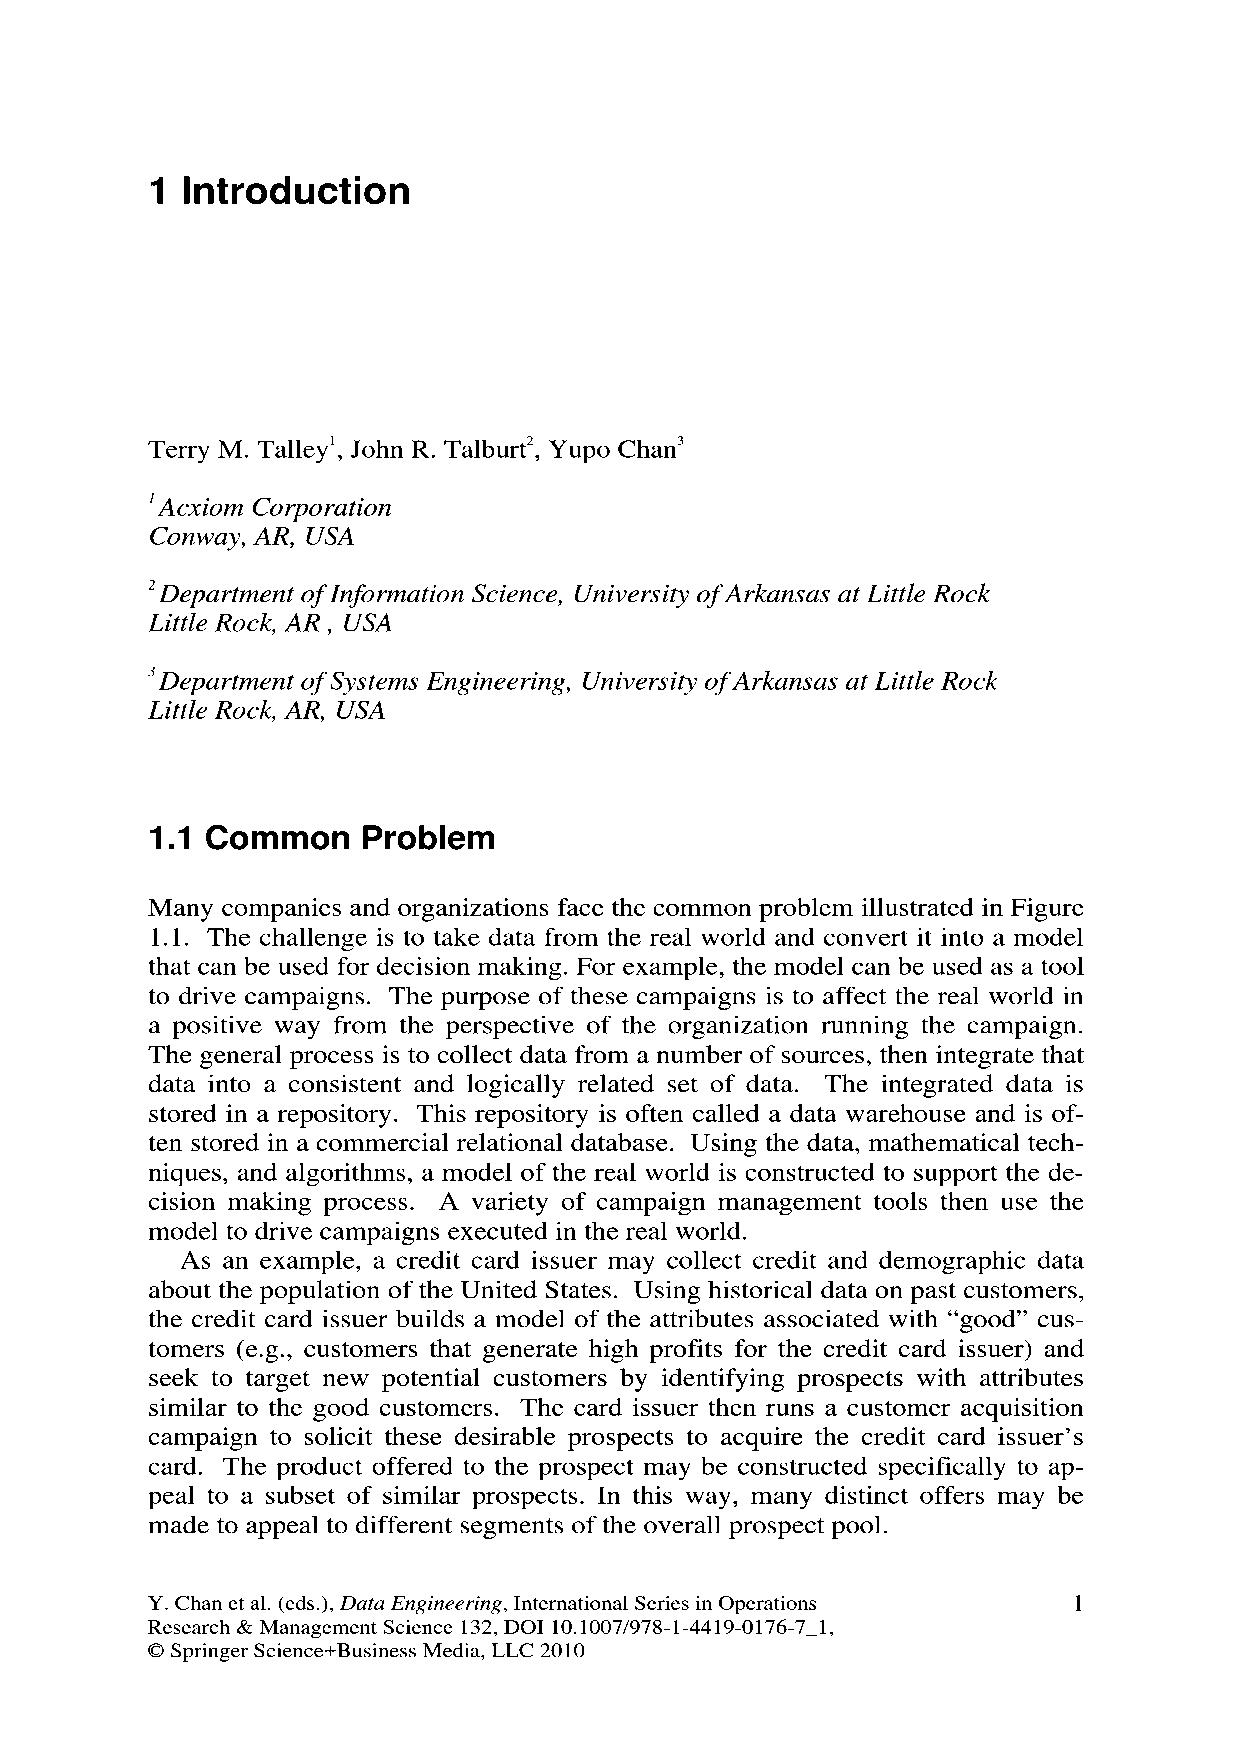chapter: (144, 821, 497, 852), (144, 172, 411, 207)
content: (145, 894, 1084, 1539)
content_pagenumber: (1068, 1592, 1084, 1616)
